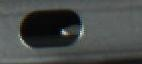holes: (16, 6, 89, 50)
